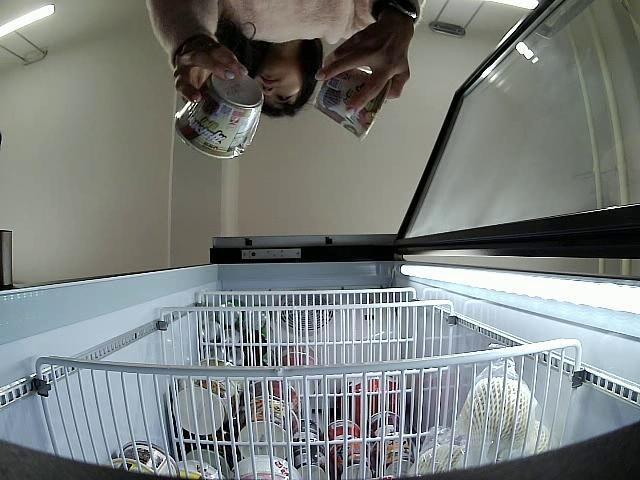04_chapagetti_S: (172, 69, 264, 158), (307, 70, 392, 142)
